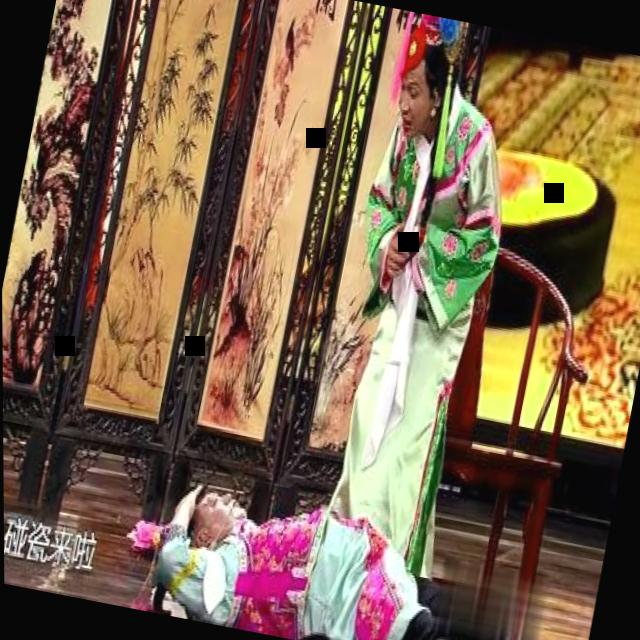Fall-Detected: (123, 459, 605, 640)
